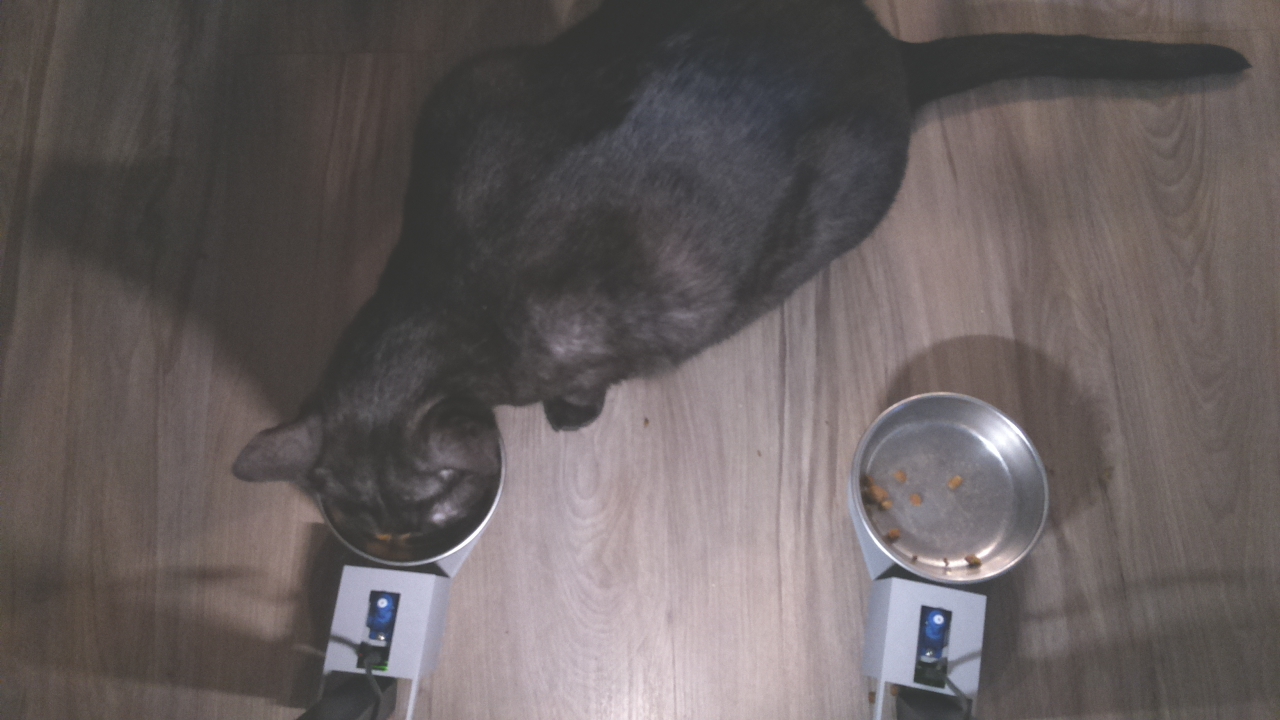open_bowl: (849, 386, 1052, 593)
saki_eating: (223, 326, 506, 577)
